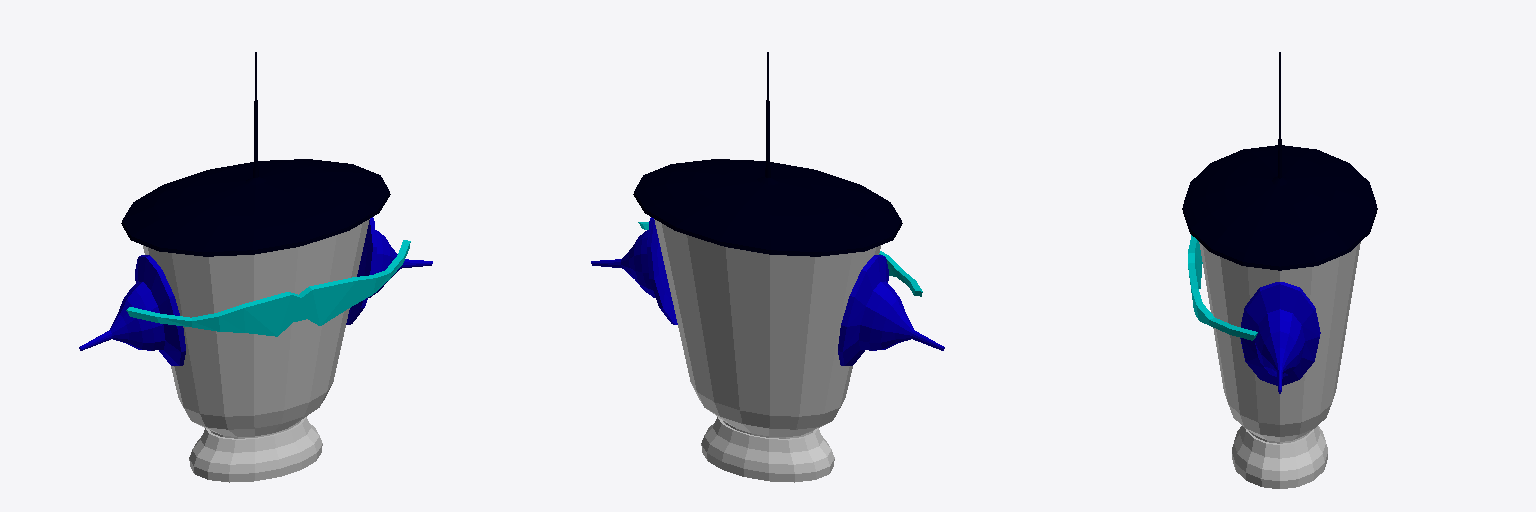
File: dobro.obj
3 views of the same model, side by side, from view 1: azimuth 30°, elevation 25°; view 2: azimuth 150°, elevation 25°; view 3: azimuth 270°, elevation 25° (orthographic).
Parts seen in each view (by area): view 1: Cylinder.007_Cylinder.019, Cylinder.005_Cylinder.017, Cube.023_Cube.028, Cylinder.006_Cylinder.018, Cylinder.008_Cylinder.020; view 2: Cylinder.007_Cylinder.019, Cylinder.005_Cylinder.017, Cylinder.006_Cylinder.018, Cylinder.008_Cylinder.020, Cube.023_Cube.028; view 3: Cylinder.005_Cylinder.017, Cylinder.007_Cylinder.019, Cylinder.006_Cylinder.018, Cylinder.008_Cylinder.020, Cube.023_Cube.028.
Part boxes in pixels (left/top/right/bottom): Cylinder.007_Cylinder.019: left=143, top=219, right=369, bottom=438; Cylinder.005_Cylinder.017: left=121, top=52, right=390, bottom=256; Cube.023_Cube.028: left=126, top=240, right=410, bottom=336; Cylinder.006_Cylinder.018: left=79, top=217, right=432, bottom=365; Cylinder.008_Cylinder.020: left=189, top=417, right=322, bottom=482; Cylinder.007_Cylinder.019: left=654, top=219, right=880, bottom=438; Cylinder.005_Cylinder.017: left=633, top=52, right=902, bottom=256; Cylinder.006_Cylinder.018: left=591, top=217, right=944, bottom=365; Cylinder.008_Cylinder.020: left=701, top=417, right=834, bottom=482; Cube.023_Cube.028: left=638, top=222, right=922, bottom=296; Cylinder.005_Cylinder.017: left=1182, top=52, right=1377, bottom=270; Cylinder.007_Cylinder.019: left=1199, top=242, right=1360, bottom=443; Cylinder.006_Cylinder.018: left=1240, top=282, right=1320, bottom=393; Cylinder.008_Cylinder.020: left=1232, top=426, right=1327, bottom=488; Cube.023_Cube.028: left=1188, top=235, right=1257, bottom=340.
Size of the model in its own units: 1.68 by 1.86 by 0.8087.